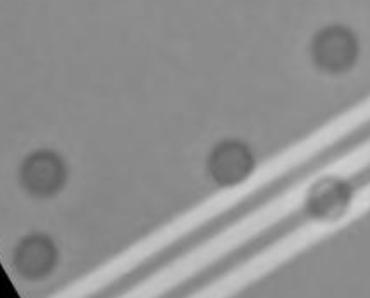cell: (202, 137, 260, 191), (307, 21, 360, 79), (13, 147, 70, 200), (300, 171, 353, 225), (7, 229, 61, 281)
